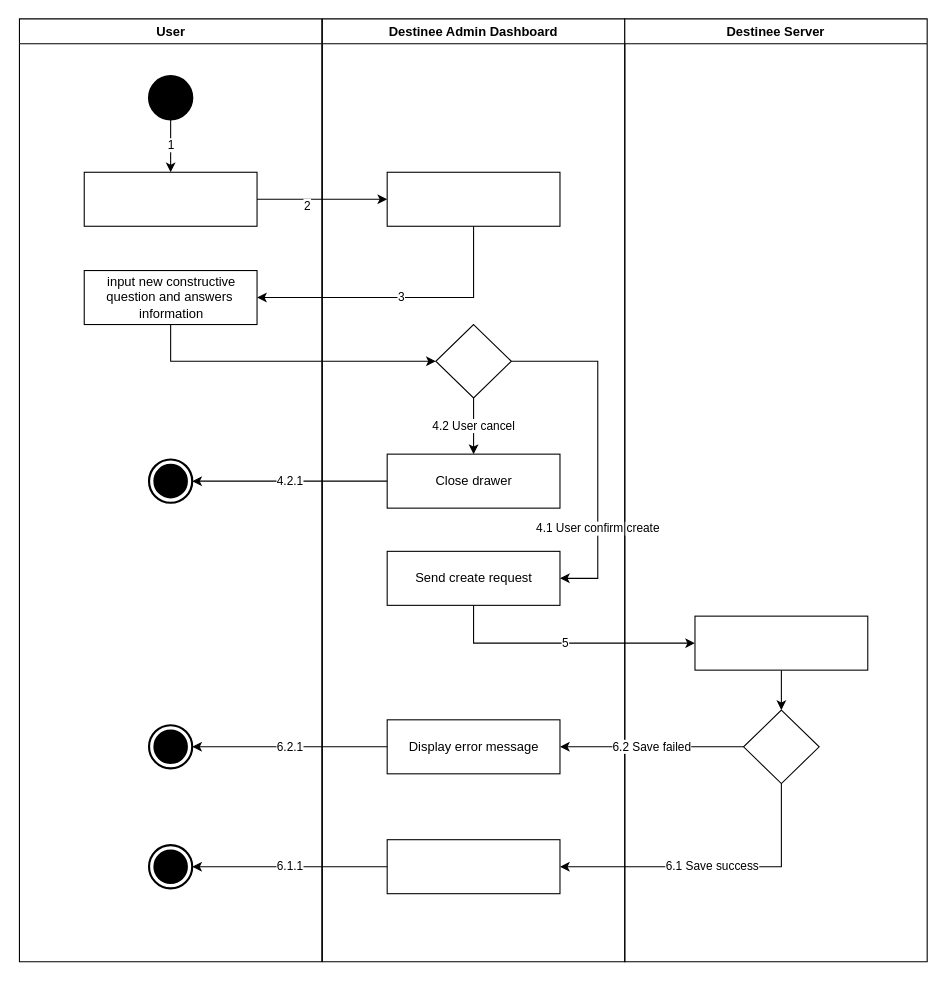
The diagram is 946 pixels wide and 981 high, and some of its shapes have lost their labels. The shapes that lost their labels are listed below. From the top down, each one's centre as x and y in pixels, then its label:
At point (170, 198): "Click create new constructive question button".
At point (473, 198): "Display create drawer".
At point (781, 642): "Save new constructive question & answers info".
At point (473, 866): "Display success message".
